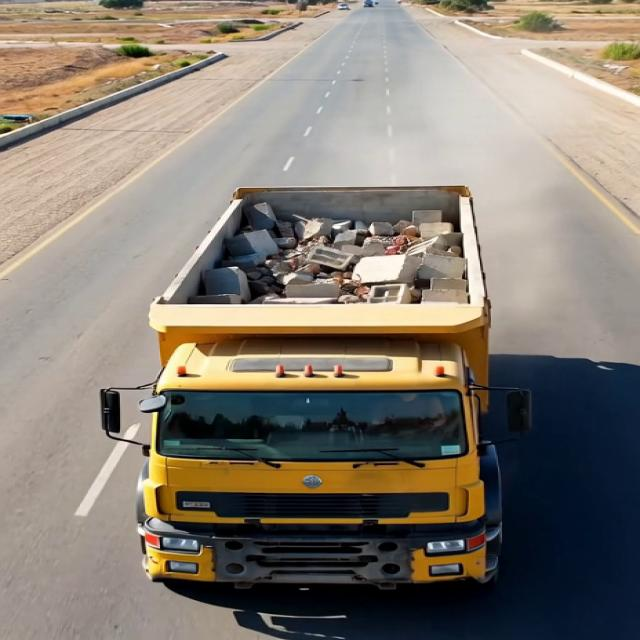Box: (140, 181, 491, 349)
Truck: (83, 166, 507, 596)
